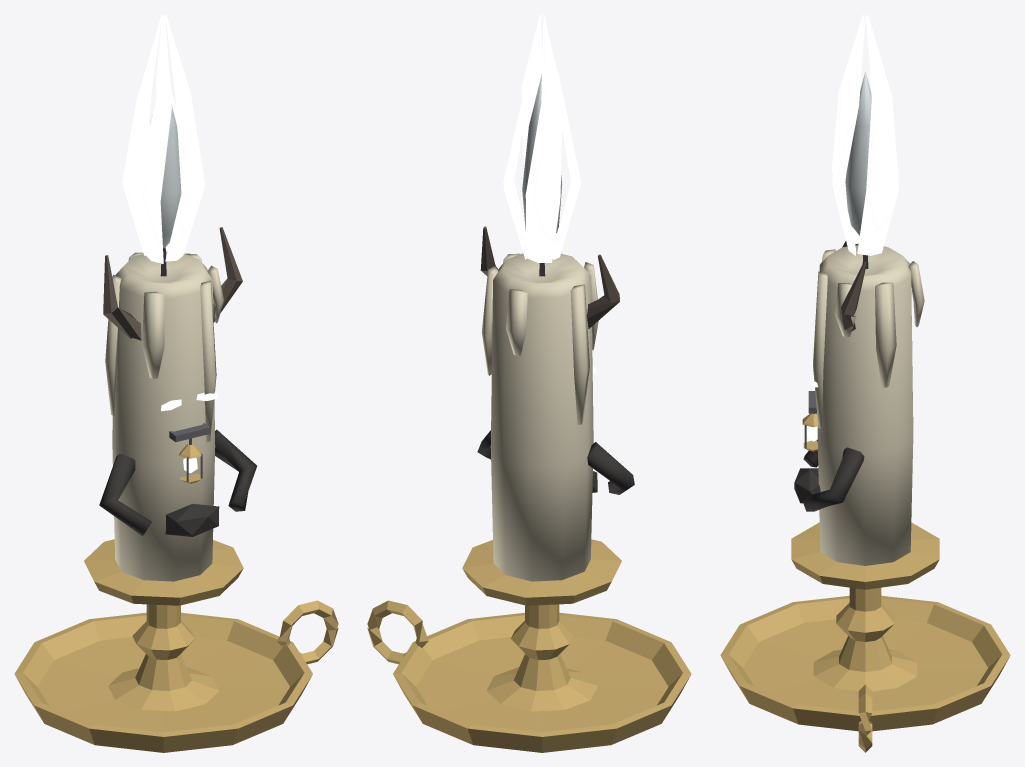
Rendered from fiend-wake-candle.glb.
3 renders of one model, left to right at view 1: azimuth 30°, elevation 25°; view 2: azimuth 150°, elevation 25°; view 3: azimuth 270°, elevation 25°, orthographic. The views are drawn at different scales.
Parts seen in each view (by area): view 1: fiend_wake_candle; view 2: fiend_wake_candle; view 3: fiend_wake_candle.
Part boxes in pixels (x1,y1,x2,y2): fiend_wake_candle: (14,14,338,752); fiend_wake_candle: (367,14,691,752); fiend_wake_candle: (720,14,1010,752).
Bounding box in the file's own units: 0.6114 × 1.33 × 0.52.
